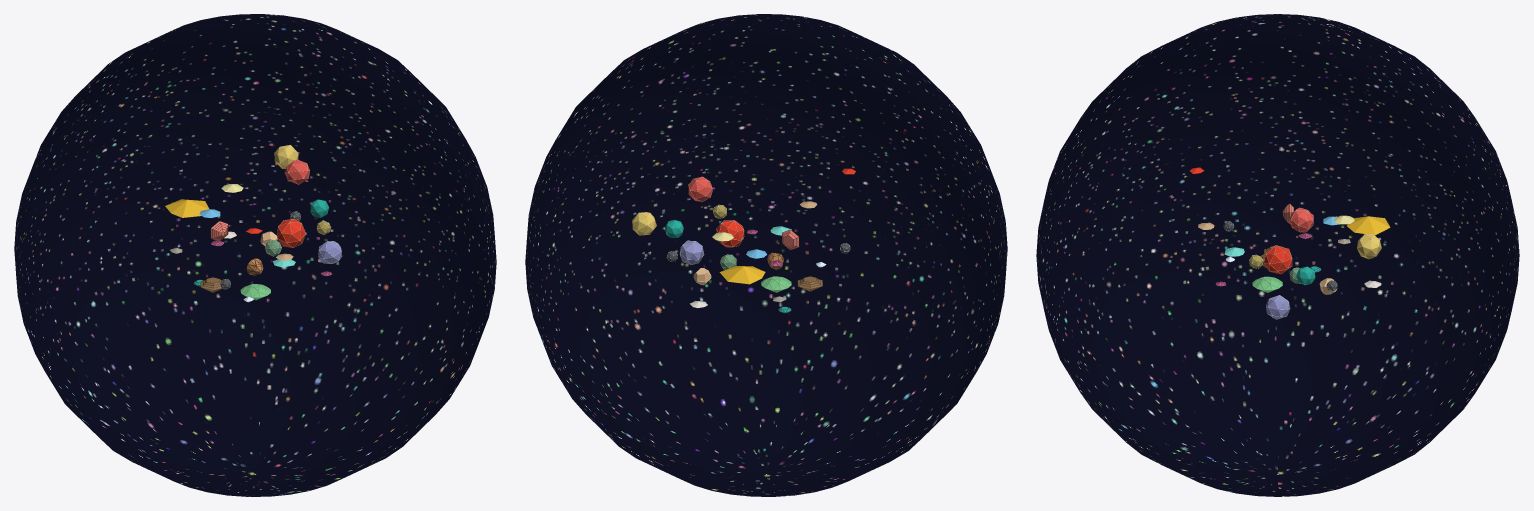
The model's file is asteroids (1).glb.
The picture shows the model from 3 angles, left to right: view 1: azimuth 30°, elevation 25°; view 2: azimuth 150°, elevation 25°; view 3: azimuth 270°, elevation 25°; orthographic projection.
Visible parts, largest first — view 1: Sphere, Circle, Plane; view 2: Sphere, Plane, Circle; view 3: Sphere, Circle, Plane.
Boxes of the visible parts, x1,y1,x2,y2 form: Sphere: (14, 14, 496, 496); Circle: (277, 218, 305, 247); Plane: (165, 199, 209, 217); Sphere: (525, 14, 1007, 496); Plane: (719, 266, 765, 284); Circle: (716, 220, 744, 247); Sphere: (1036, 14, 1519, 496); Circle: (1263, 245, 1292, 274); Plane: (1347, 216, 1390, 235).
Size of the model in its own units: 2.67 by 2.67 by 2.67.
Materials: 30 (1 with a texture image).
